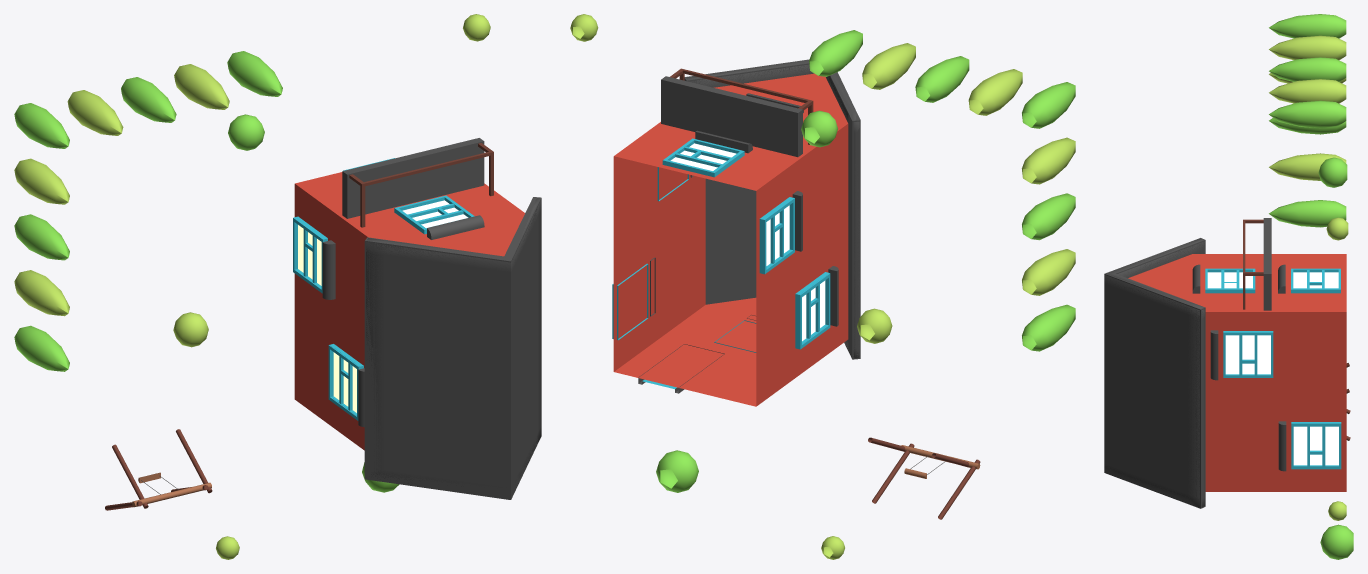
The model's file is Simple_House_03.fbx.
3 views of the same model, side by side, from view 1: azimuth 30°, elevation 25°; view 2: azimuth 150°, elevation 25°; view 3: azimuth 270°, elevation 25° (orthographic). The views are drawn at different scales.
Parts seen in each view (by area): view 1: Simple_House_03_LOD1, Simple_House_03_LOD2, Simple_House_03_LOD3; view 2: Simple_House_03_LOD1, Simple_House_03_LOD2, Simple_House_03_LOD3; view 3: Simple_House_03_LOD1, Simple_House_03_LOD2, Simple_House_03_LOD3.
Part boxes in pixels (<box>): Simple_House_03_LOD1: <box>14,14,541,559</box>; Simple_House_03_LOD2: <box>364,197,541,499</box>; Simple_House_03_LOD3: <box>293,158,474,420</box>; Simple_House_03_LOD1: <box>570,14,1075,559</box>; Simple_House_03_LOD2: <box>684,59,860,359</box>; Simple_House_03_LOD3: <box>612,138,830,352</box>; Simple_House_03_LOD1: <box>1104,14,1353,559</box>; Simple_House_03_LOD2: <box>1104,238,1205,508</box>; Simple_House_03_LOD3: <box>1205,268,1341,466</box>.
Size of the model in its own units: 179 by 182 by 97.21.
